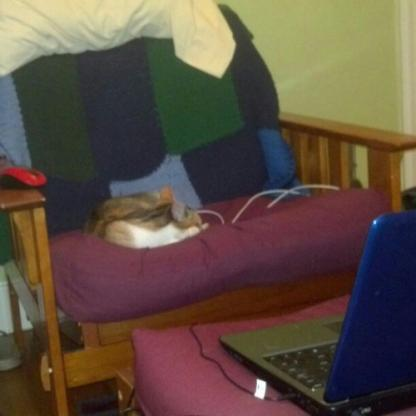Target: (90, 192, 217, 259)
